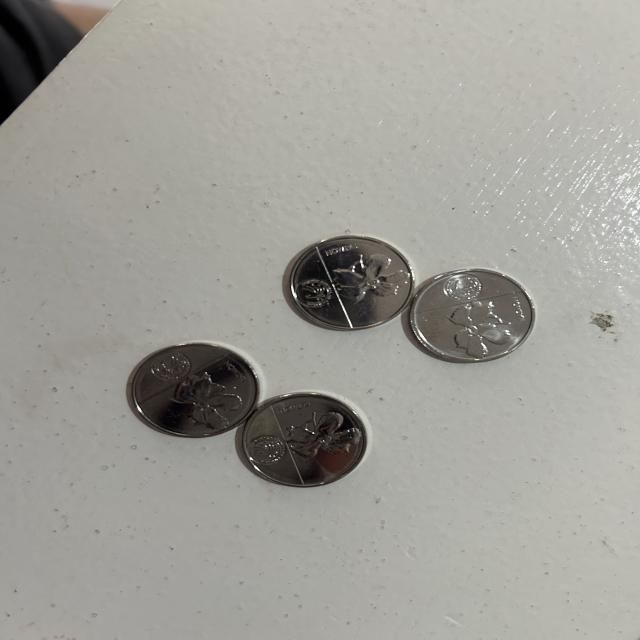25Cent_New_Back: (328, 251, 413, 305), (436, 303, 516, 357), (168, 371, 244, 427), (286, 410, 353, 468)
